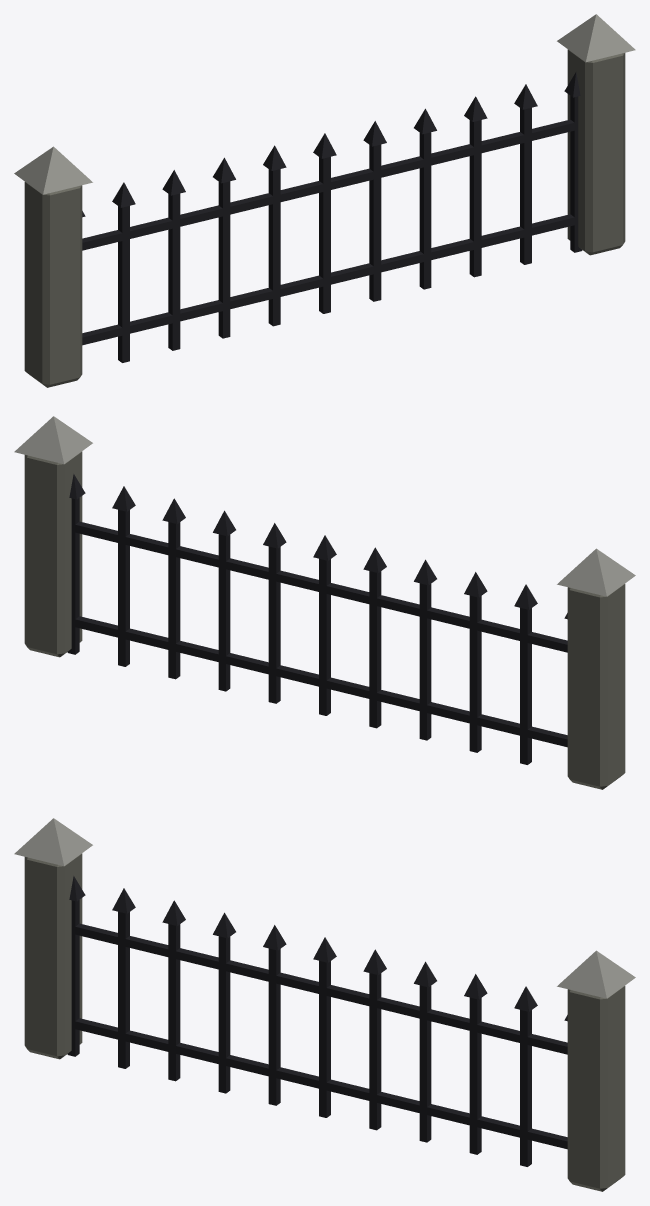
Rendered from GraveyardFence.fbx.
3 views of the same model, one above another, from view 1: azimuth 30°, elevation 25°; view 2: azimuth 150°, elevation 25°; view 3: azimuth 330°, elevation 25° (orthographic).
Parts seen in each view (by area): view 1: GraveyardFence; view 2: GraveyardFence; view 3: GraveyardFence.
Part boxes in pixels (bbox=[...]): GraveyardFence: bbox=[14, 14, 635, 387]; GraveyardFence: bbox=[14, 416, 635, 789]; GraveyardFence: bbox=[14, 818, 635, 1191].
Size of the model in its own units: 11.8 by 4.4 by 1.
Materials: 1 (1 with a texture image).
